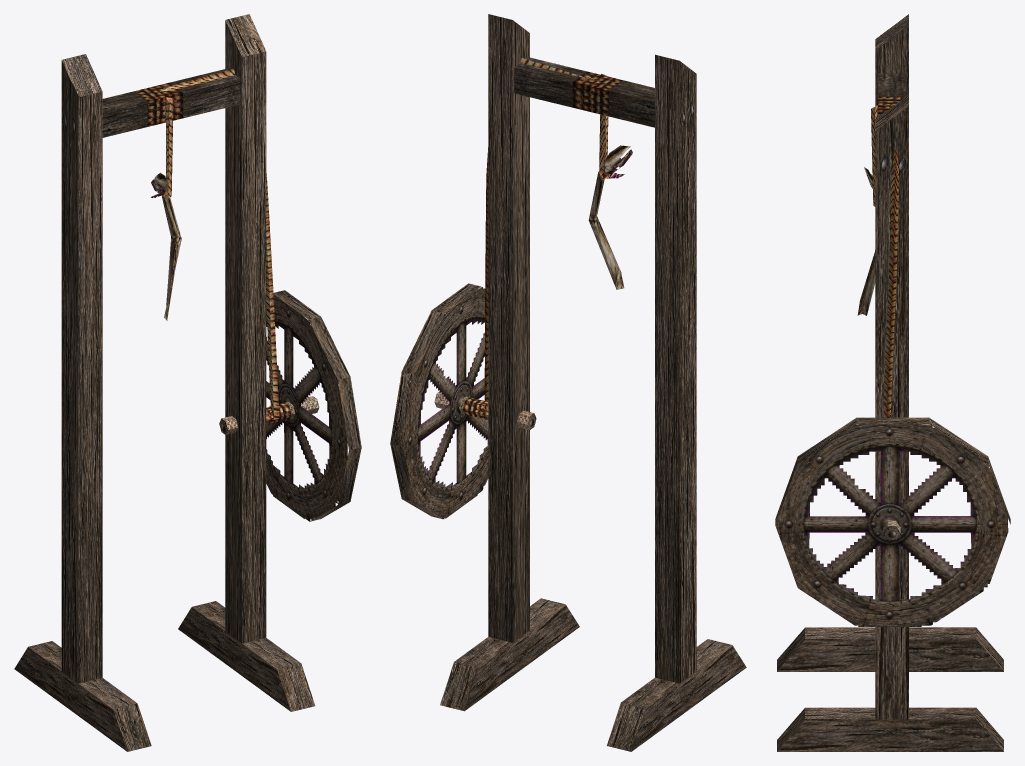
The model's file is mm9_deco_torturewheel02.glb.
The picture shows the model from 3 angles, left to right: view 1: azimuth 30°, elevation 25°; view 2: azimuth 150°, elevation 25°; view 3: azimuth 270°, elevation 25°; orthographic projection.
Visible parts, largest first — view 1: Torturewheel02; view 2: Torturewheel02; view 3: Torturewheel02.
Boxes of the visible parts, x1,y1,x2,y2 form: Torturewheel02: (14, 14, 361, 751); Torturewheel02: (390, 14, 746, 751); Torturewheel02: (775, 14, 1010, 751).
Bounding box in the file's own units: 1.55 × 3.91 × 1.29.
2 materials, 2 textured.
